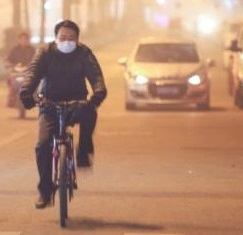person: (19, 15, 113, 229), (7, 32, 40, 119)
